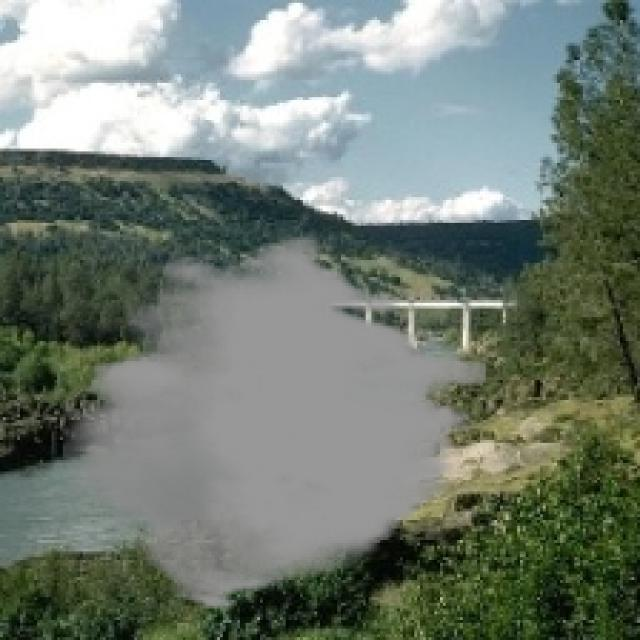Smoke: (63, 234, 486, 612)
